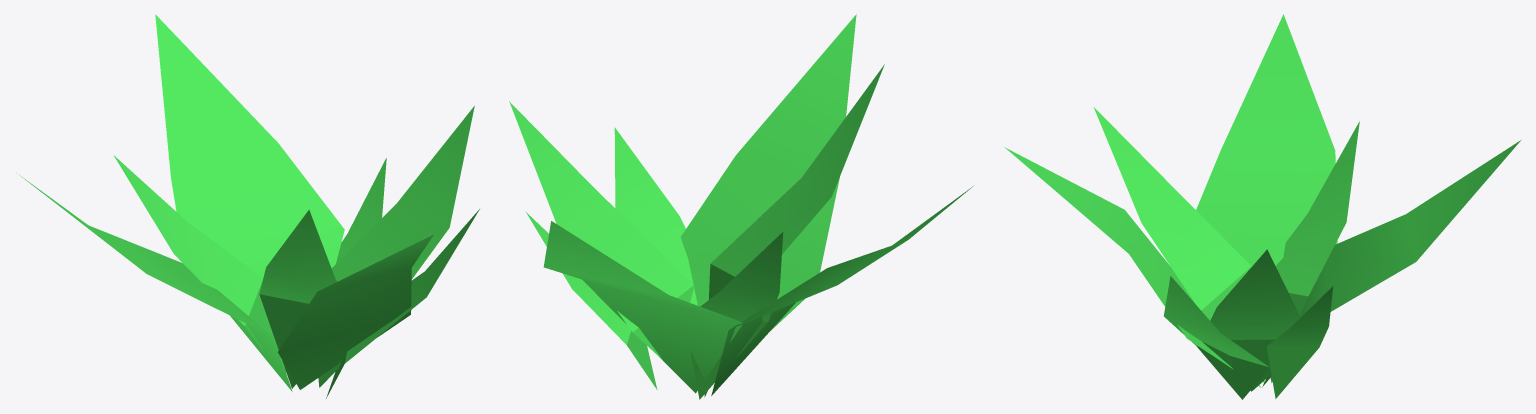
File: Grass.fbx
3 renders of one model, left to right at view 1: azimuth 30°, elevation 25°; view 2: azimuth 150°, elevation 25°; view 3: azimuth 270°, elevation 25°, orthographic. The views are drawn at different scales.
Visible parts, largest first — view 1: Hierba; view 2: Hierba; view 3: Hierba.
Boxes of the visible parts, x1,y1,x2,y2 form: Hierba: [19, 14, 479, 398]; Hierba: [509, 14, 973, 399]; Hierba: [1004, 14, 1520, 399].
Bounding box in the file's own units: 45.8 × 27.4 × 49.93.
